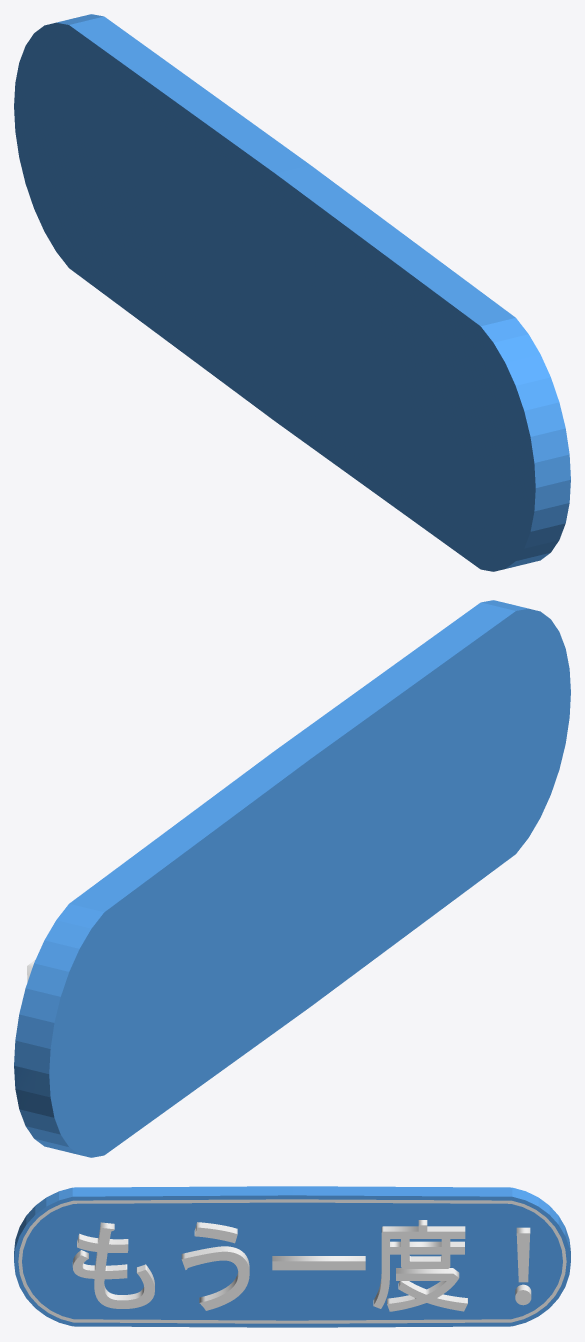
The model's file is restart_button.glb.
3 renders of one model, top to bottom at view 1: azimuth 30°, elevation 25°; view 2: azimuth 150°, elevation 25°; view 3: azimuth 270°, elevation 25°, orthographic. The views are drawn at different scales.
Parts seen in each view (by area): view 1: 円柱; view 2: 円柱; view 3: 円柱, テキスト.
Boxes of the visible parts, x1=… form: 円柱: x1=14, y1=14, x2=570, y2=571; 円柱: x1=14, y1=600, x2=570, y2=1157; 円柱: x1=14, y1=1186, x2=570, y2=1327; テキスト: x1=72, y1=1220, x2=531, y2=1311.
Bounding box in the file's own units: 0.5106 × 2 × 7.63.
2 materials, 2 textured.
